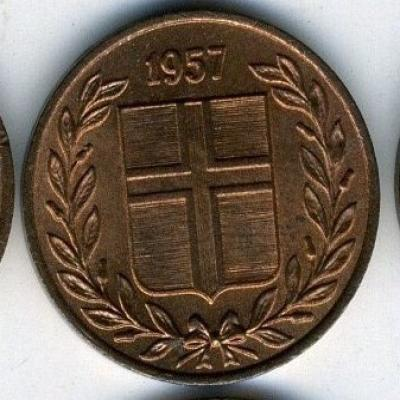numismatics: (24, 11, 378, 374)
